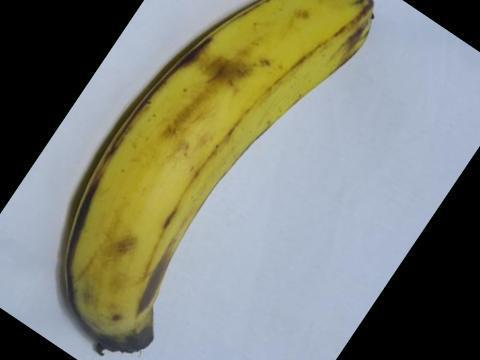ripe: (51, 0, 374, 359)
